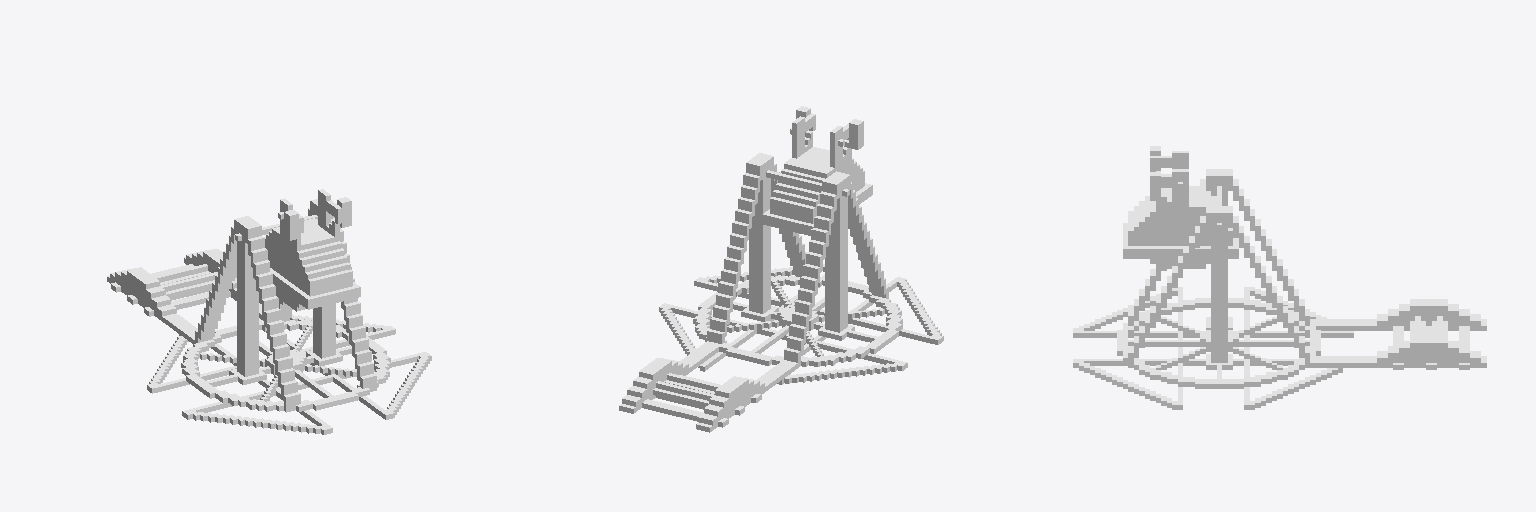
Rendered from catapultWA.obj.
3 renders of one model, left to right at view 1: azimuth 30°, elevation 25°; view 2: azimuth 150°, elevation 25°; view 3: azimuth 270°, elevation 25°, orthographic.
Size of the model in its own units: 51 by 38 by 75.